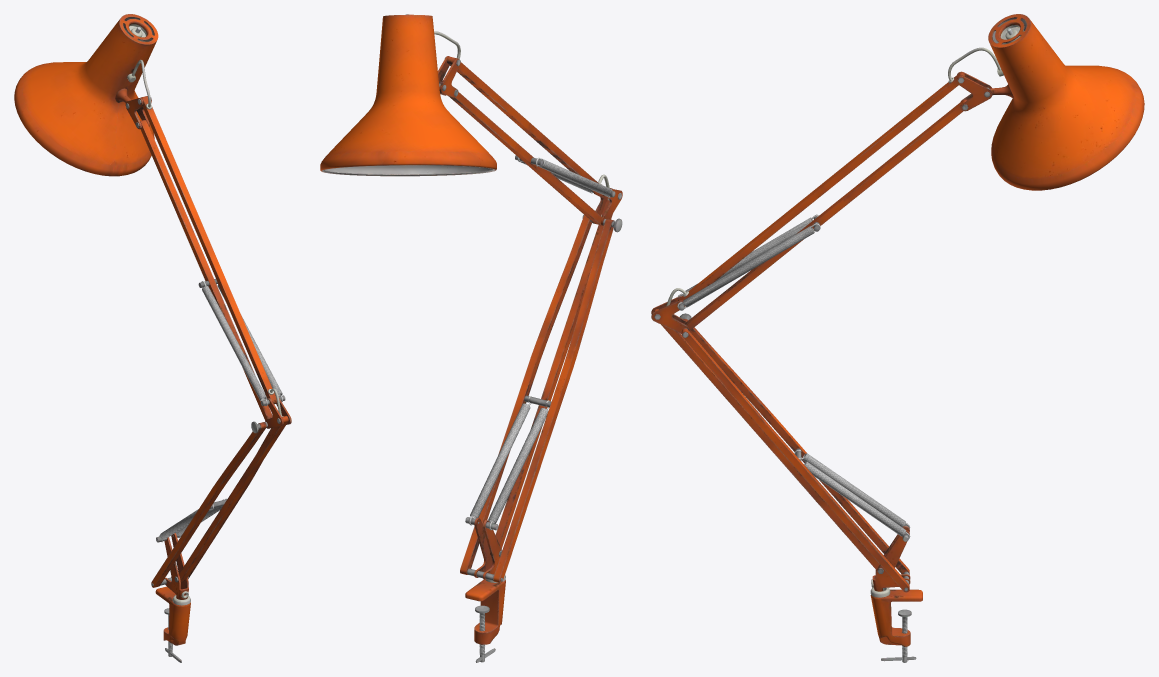
File: desk_lamp_arm_01.glb
3 views of the same model, side by side, from view 1: azimuth 30°, elevation 25°; view 2: azimuth 150°, elevation 25°; view 3: azimuth 270°, elevation 25° (orthographic). The views are drawn at different scales.
Parts seen in each view (by area): view 1: desk_lamp_arm_01; view 2: desk_lamp_arm_01; view 3: desk_lamp_arm_01.
Boxes of the visible parts, bbox=[...] form: desk_lamp_arm_01: bbox=[14, 14, 291, 662]; desk_lamp_arm_01: bbox=[320, 14, 622, 662]; desk_lamp_arm_01: bbox=[651, 14, 1144, 662].
Size of the model in its own units: 0.2017 by 0.8926 by 0.6139.
Materials: 2 (2 with a texture image).
